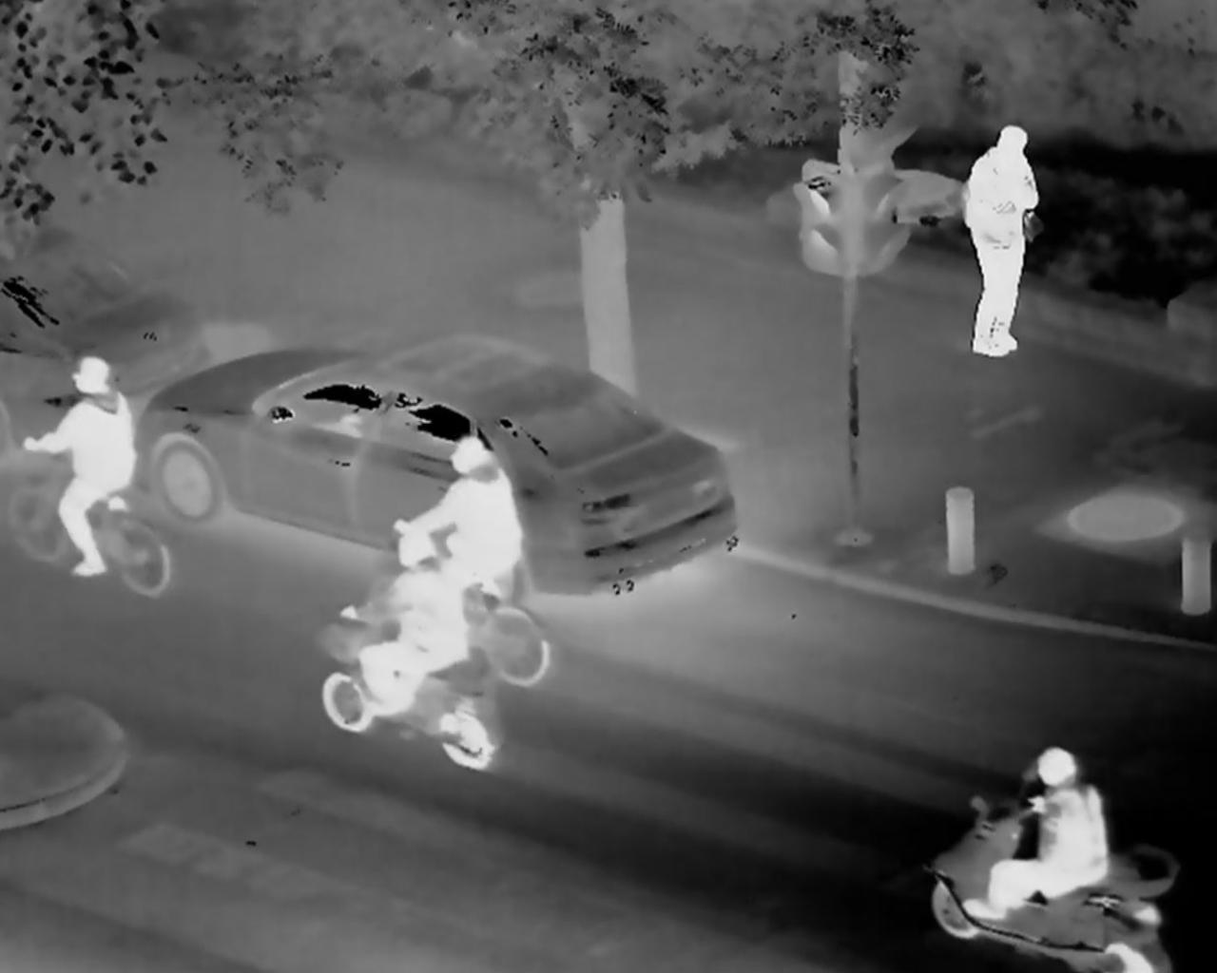person: (19, 359, 158, 591), (956, 743, 1136, 920), (944, 119, 1050, 398), (350, 542, 491, 747), (398, 429, 527, 620)
